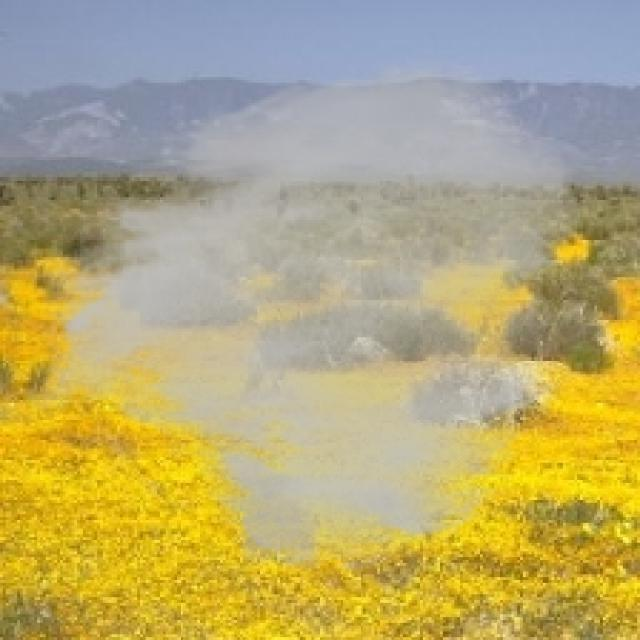Smoke: (23, 54, 586, 577)
